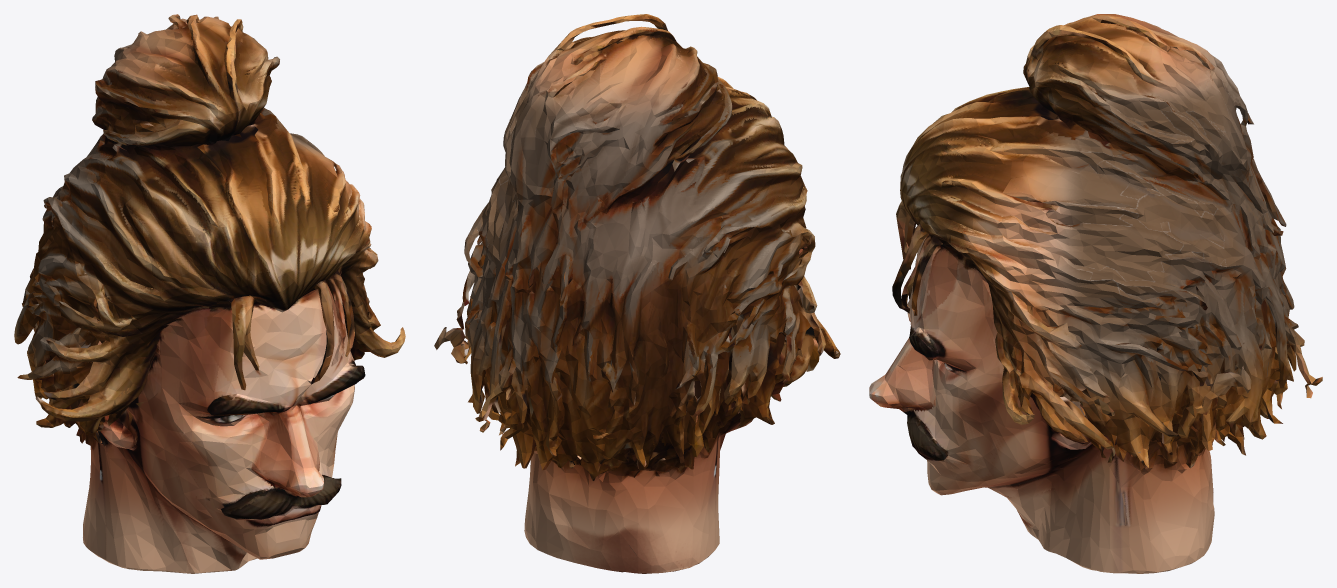
Rendered from side_lionsergeant_repaired_atlas.glb.
3 views of the same model, side by side, from view 1: azimuth 30°, elevation 25°; view 2: azimuth 150°, elevation 25°; view 3: azimuth 270°, elevation 25° (orthographic). The views are drawn at different scales.
Visible parts, largest first — view 1: temp_mesh.ply; view 2: temp_mesh.ply; view 3: temp_mesh.ply.
Part boxes in pixels (x1,y1,x2,y2): temp_mesh.ply: (14,14,405,573); temp_mesh.ply: (434,14,840,573); temp_mesh.ply: (869,14,1322,573).
Bounding box in the file's own units: 0.9707 × 1.34 × 1.07.
1 material, 1 textured.
